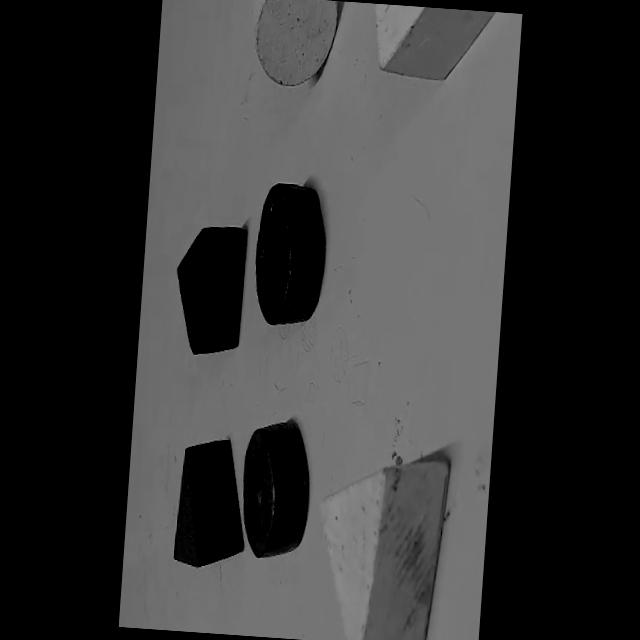bcircle: (248, 177, 330, 330)
btriangle: (170, 218, 249, 360)
rcircle: (237, 418, 315, 562)
rtriangle: (172, 433, 250, 571)
ycircle: (247, 0, 339, 89)
ytriangle: (309, 449, 448, 640)
